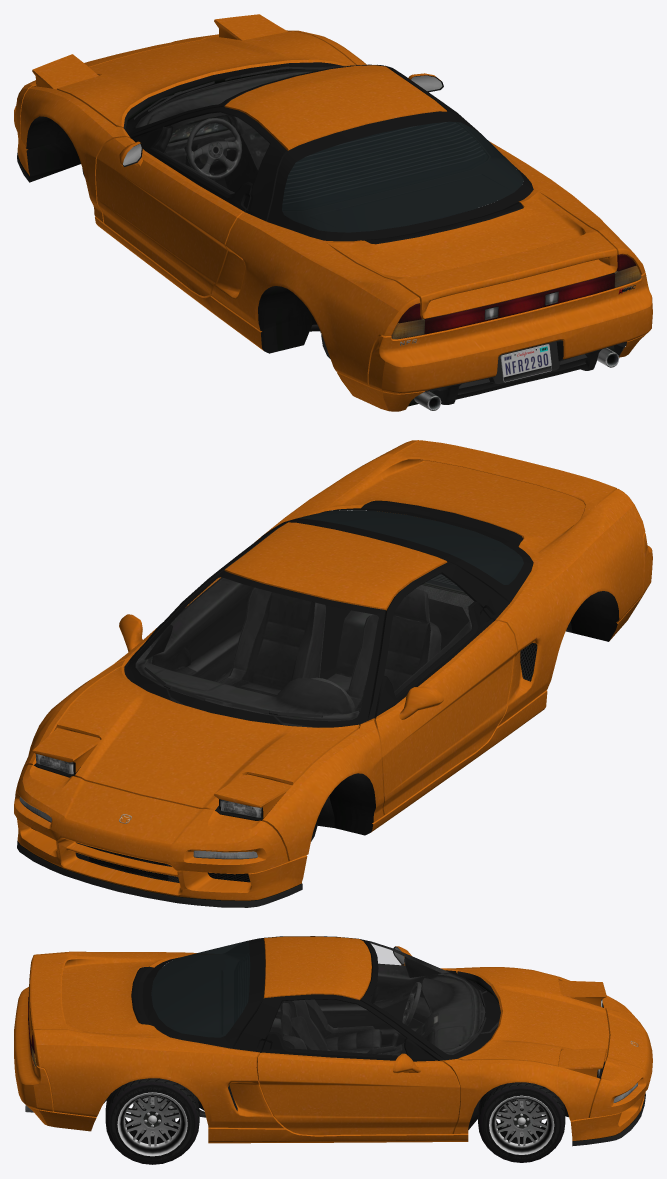
The model's file is nfr.glb.
3 views of the same model, one above another, from view 1: azimuth 30°, elevation 25°; view 2: azimuth 150°, elevation 25°; view 3: azimuth 270°, elevation 25° (orthographic). The views are drawn at different scales.
Parts seen in each view (by area): view 1: body; view 2: body; view 3: body, wheel_R, wheel_F.
Boxes of the visible parts, left/top/right/bottom form: body: left=14, top=14, right=652, bottom=411; body: left=14, top=440, right=652, bottom=907; body: left=14, top=936, right=652, bottom=1146; wheel_R: left=105, top=1078, right=199, bottom=1164; wheel_F: left=478, top=1082, right=565, bottom=1162.
Size of the model in its own units: 2.18 by 1.27 by 4.9.
Materials: 13 (12 with a texture image).
